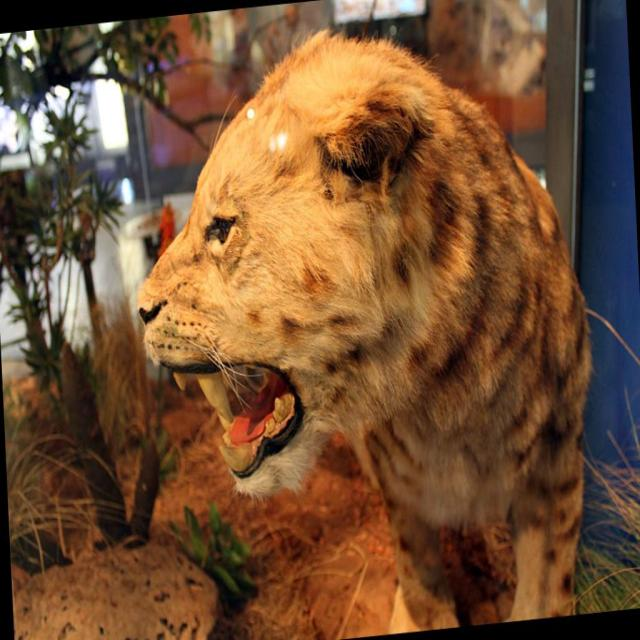Lion: (122, 0, 604, 639)
